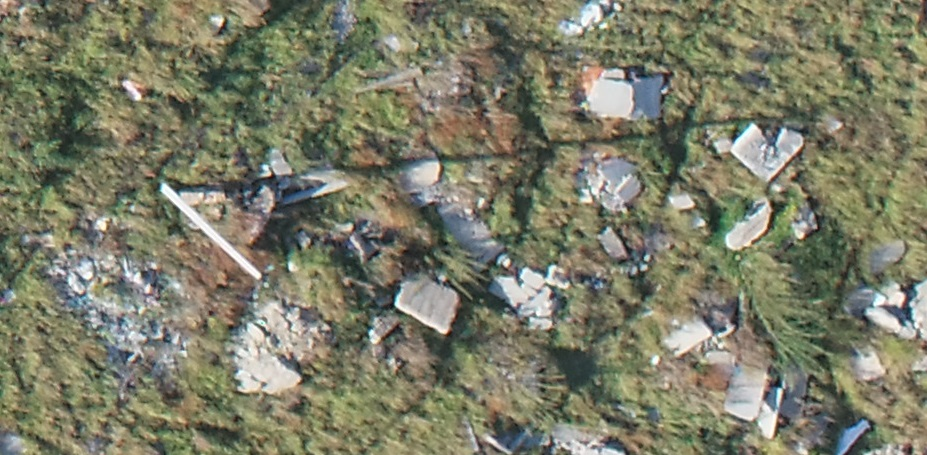opora: (156, 169, 279, 299)
